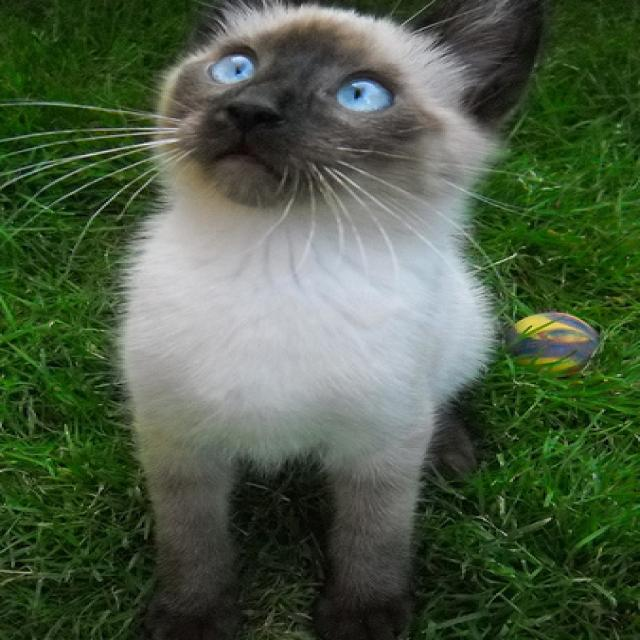Siamese: (106, 0, 547, 640)
